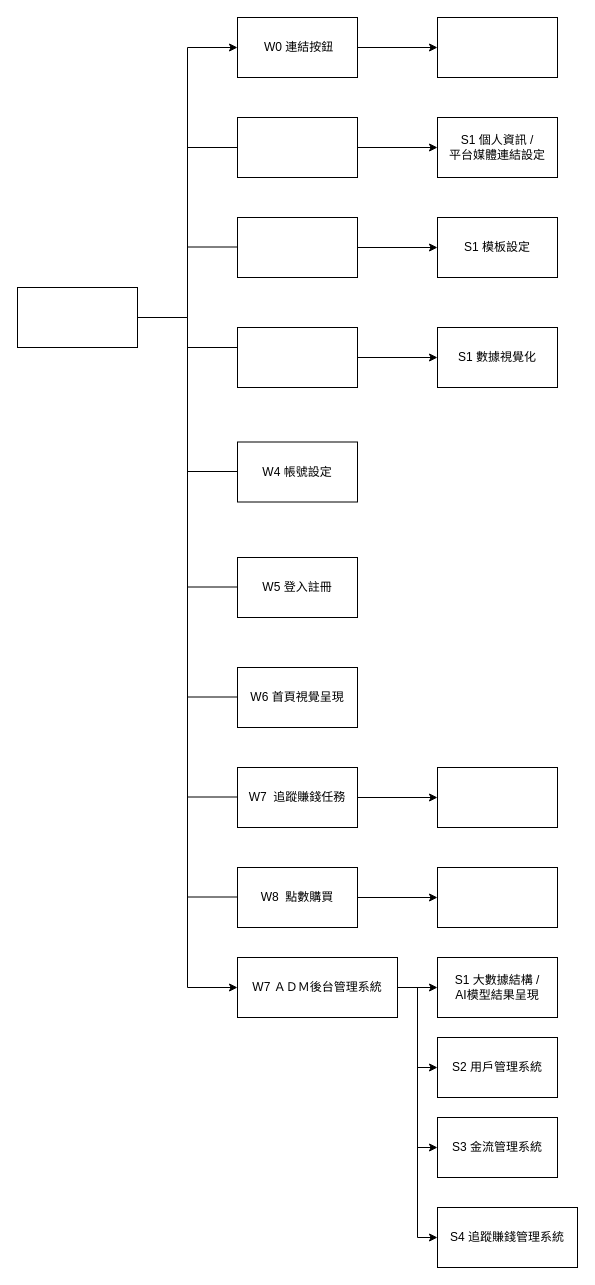
Some shapes in this 595 by 1285 pixel diagram are drawn without their labels. Here are the shapes that lost their labels. From the top down, the box of each, then its label:
(436, 16, 558, 78): S1 新增連結
(236, 116, 358, 178): W1 頁面設定
(236, 216, 358, 278): W2 樣式設定
(16, 286, 138, 348): linklink
(236, 326, 358, 388): W3 頁面數據
(436, 766, 558, 828): S1 賺錢 or 發起任務
(436, 866, 558, 928): S1 金流購買
